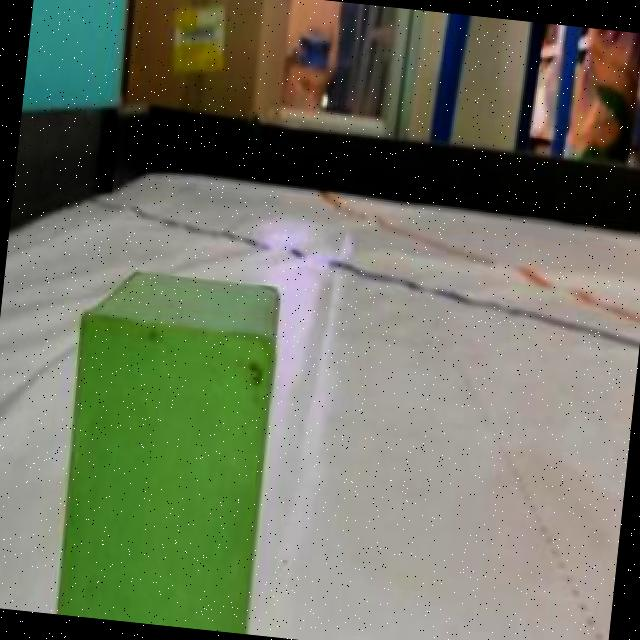greenbox: (47, 258, 290, 635)
